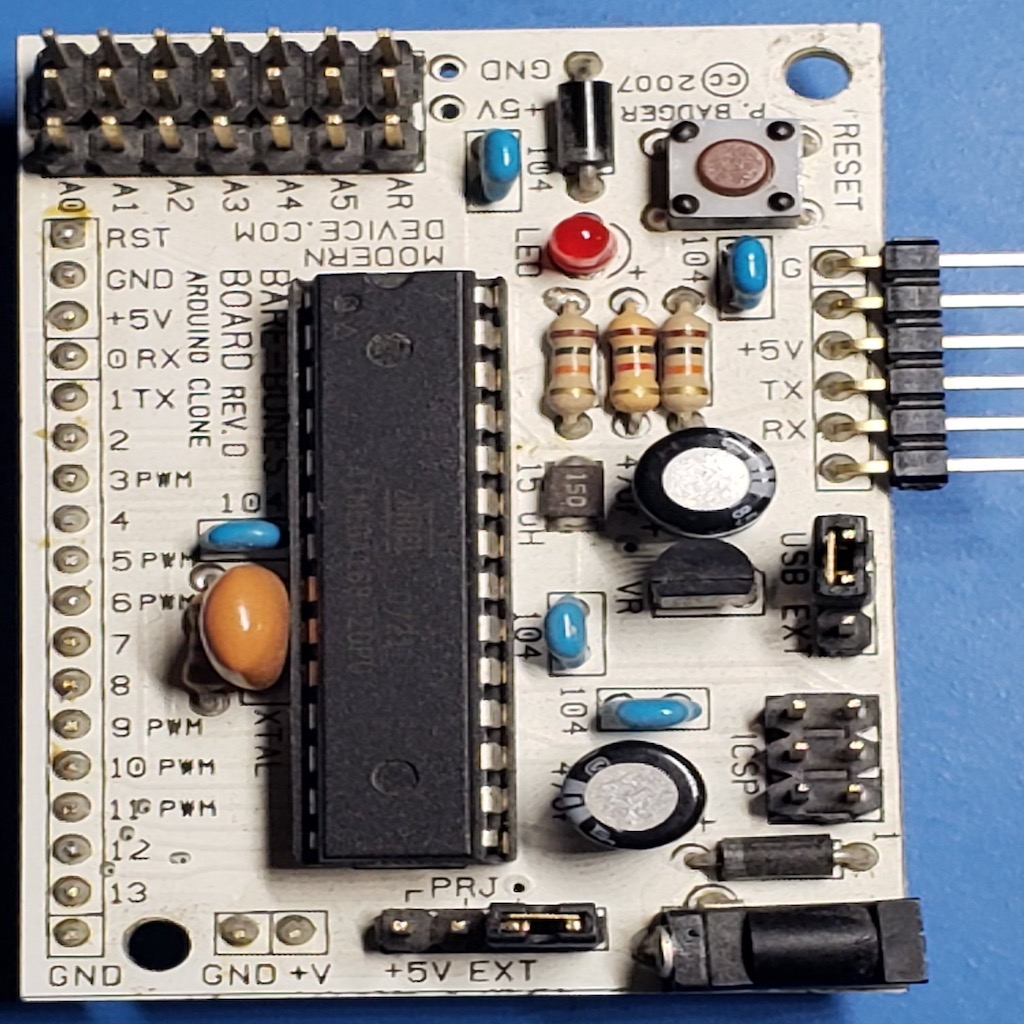Capacitor: (556, 737, 707, 852), (631, 425, 779, 539)
Diode: (550, 76, 619, 178), (708, 829, 843, 881)
LED: (545, 214, 619, 276)
Resistor: (598, 305, 663, 421), (538, 306, 598, 421), (659, 305, 714, 418)
